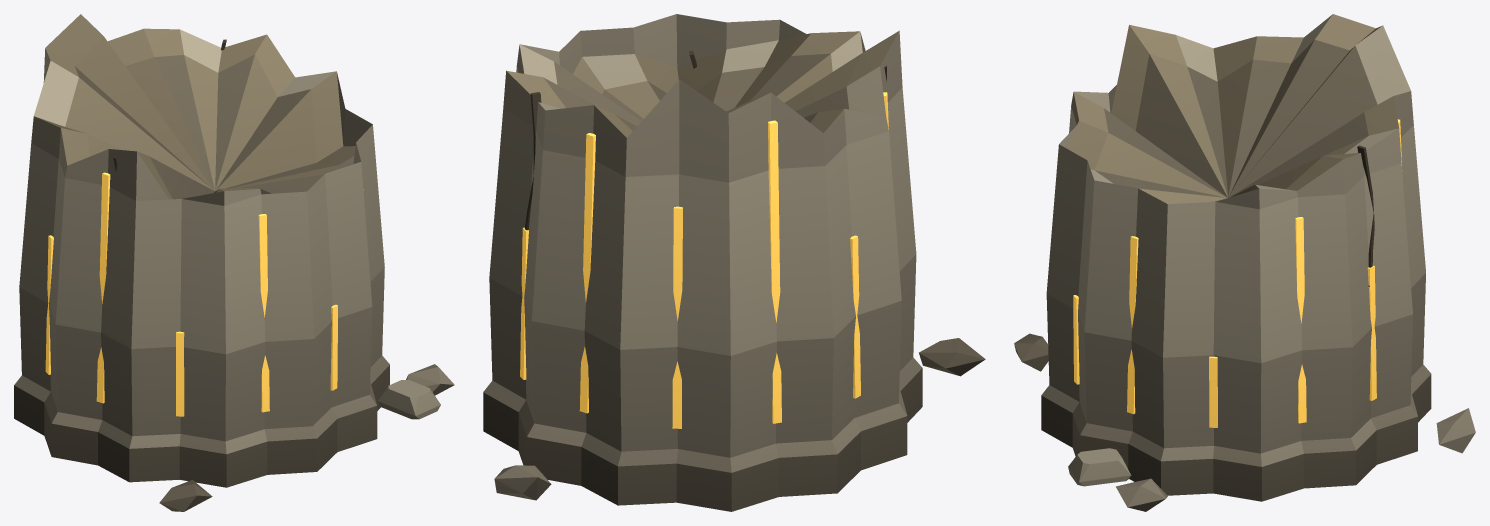
Rendered from sunstone.glb.
The picture shows the model from 3 angles, left to right: view 1: azimuth 30°, elevation 25°; view 2: azimuth 150°, elevation 25°; view 3: azimuth 270°, elevation 25°; orthographic projection. The views are drawn at different scales.
Visible parts, largest first — view 1: stone; view 2: stone; view 3: stone.
Part boxes in pixels (x1,y1,x2,y2): stone: [14, 14, 454, 511]; stone: [483, 14, 985, 511]; stone: [1014, 14, 1475, 511].
Bounding box in the file's own units: 1.59 × 1.51 × 1.69.
